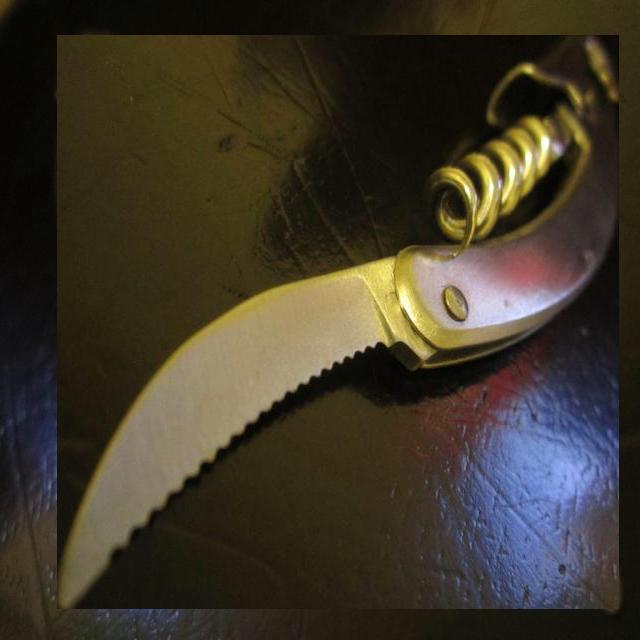Knife: (58, 35, 619, 609)
